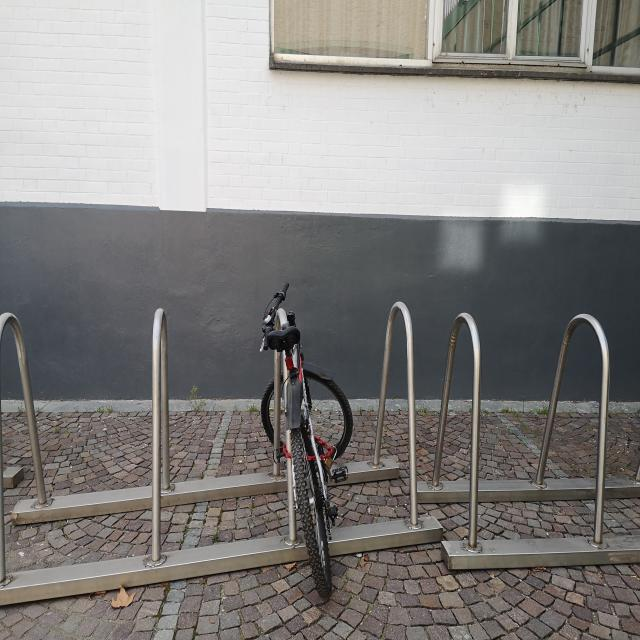Bicycle: (244, 272, 358, 608)
